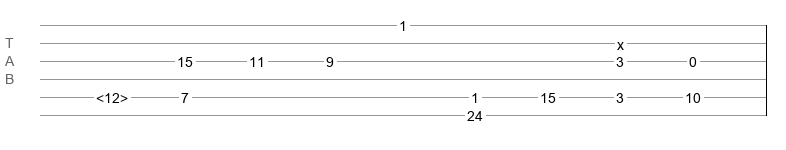0: (689, 54, 697, 64)
1: (399, 18, 407, 28), (471, 90, 479, 100)
10: (685, 90, 701, 100)
11: (249, 54, 265, 64)
15: (177, 54, 193, 64), (540, 90, 556, 100)
24: (467, 108, 483, 118)
3: (616, 90, 624, 100), (616, 54, 624, 64)
7: (181, 90, 189, 100)
9: (326, 54, 334, 64)
harmonic: (96, 90, 128, 100)
x: (617, 37, 624, 45)
